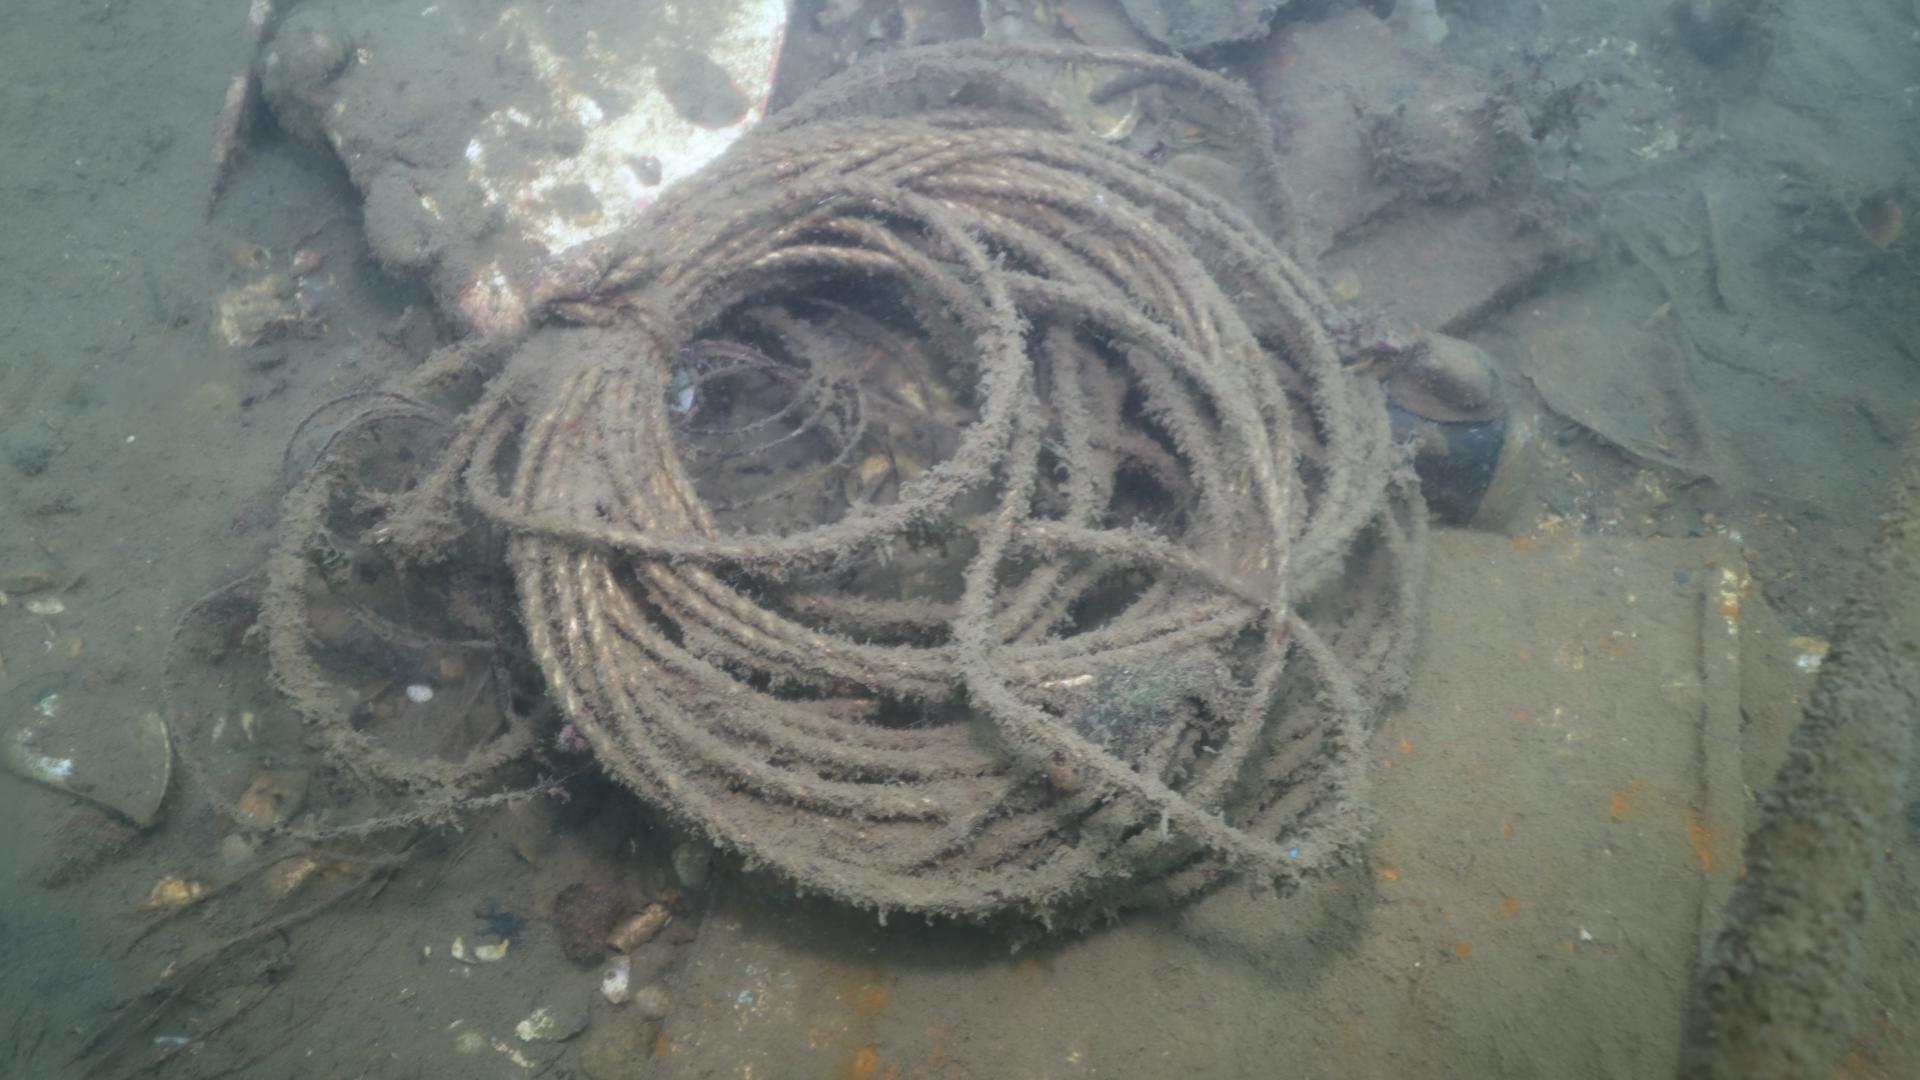bundle of ropes: (256, 33, 1433, 948)
